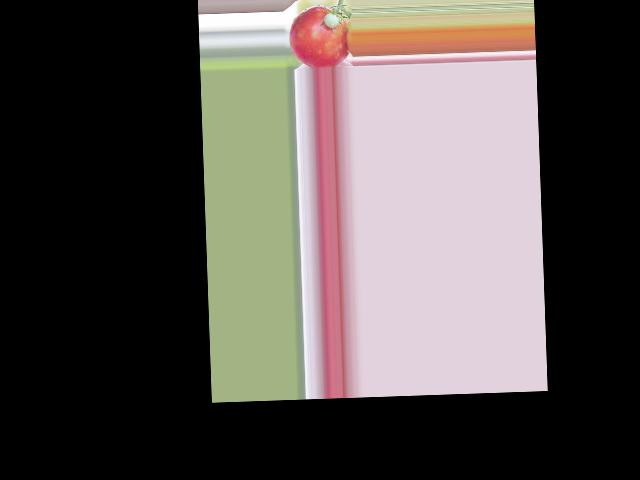tomato: (288, 4, 350, 70)
